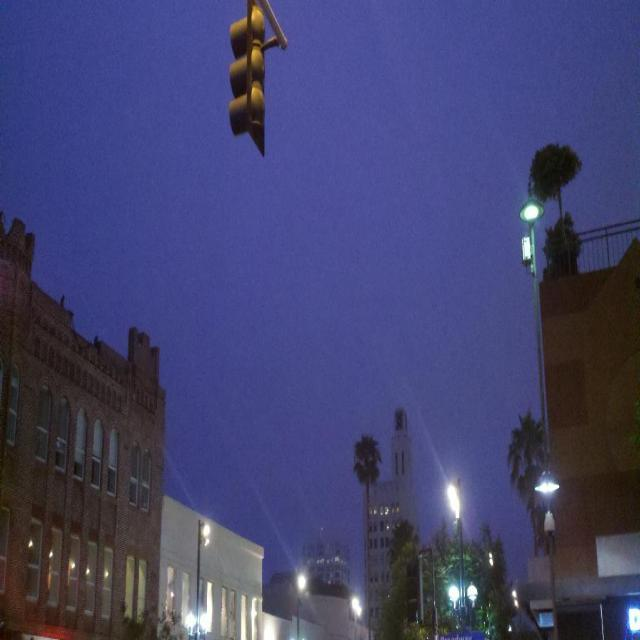off traffic light: (226, 1, 264, 142)
